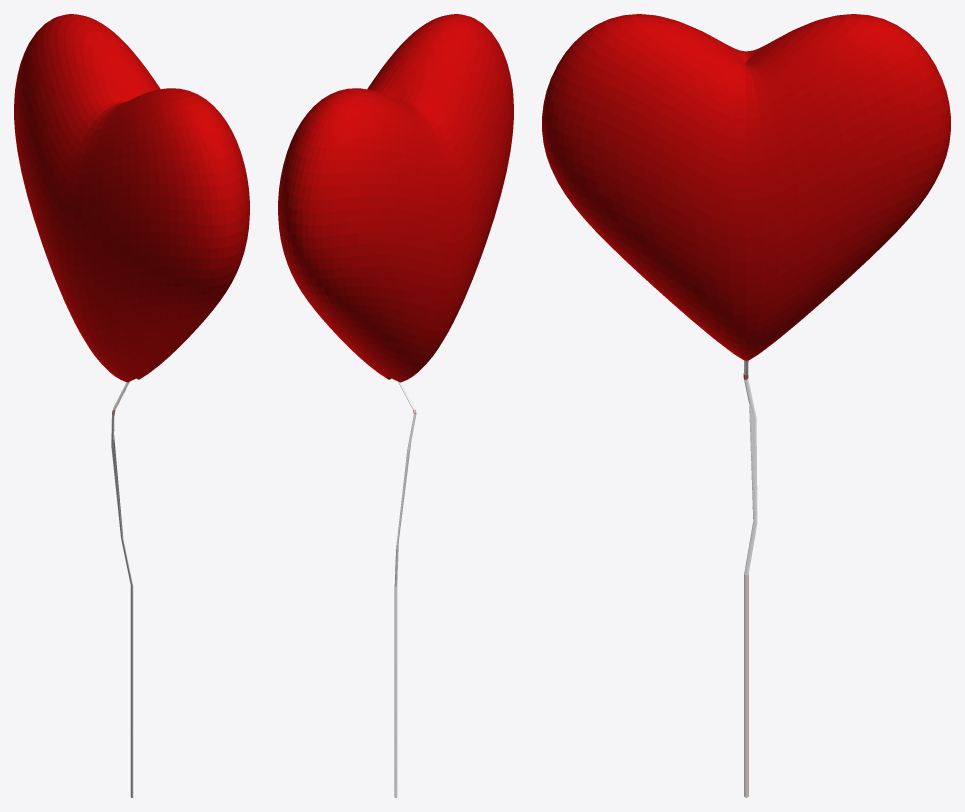
Rendered from corazon.obj.
The picture shows the model from 3 angles, left to right: view 1: azimuth 30°, elevation 25°; view 2: azimuth 150°, elevation 25°; view 3: azimuth 270°, elevation 25°; orthographic projection. The views are drawn at different scales.
Parts seen in each view (by area): view 1: Heart; view 2: Heart; view 3: Heart.
Part boxes in pixels (<box>): Heart: <box>14,14,249,797</box>; Heart: <box>278,14,513,797</box>; Heart: <box>542,14,950,797</box>.
Size of the model in its own units: 3.28 by 17.23 by 8.18.
